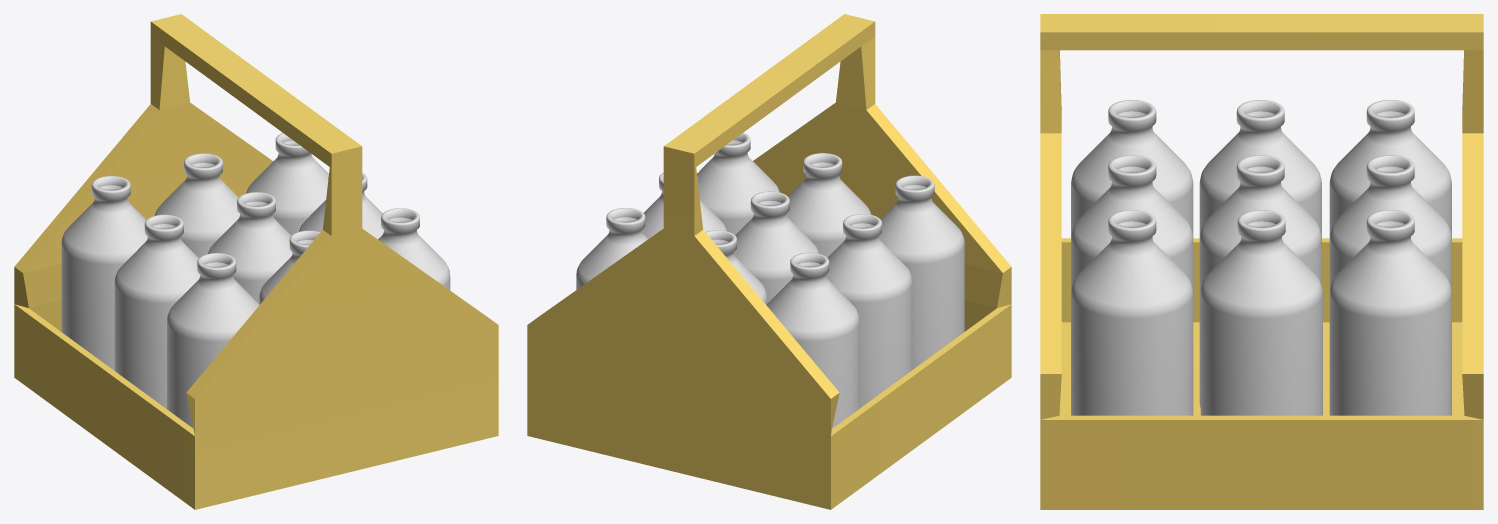
The model's file is MilkBottleSet.fbx.
3 renders of one model, left to right at view 1: azimuth 30°, elevation 25°; view 2: azimuth 150°, elevation 25°; view 3: azimuth 270°, elevation 25°, orthographic. The views are drawn at different scales.
Parts seen in each view (by area): view 1: Stand, Glass.003, Glass.004, Glass.005, Glass.008, Glass.007, Glass.001, Glass.006, Glass.002, Glass.009; view 2: Stand, Glass.004, Glass.005, Glass.003, Glass.008, Glass.009, Glass.006, Glass.001, Glass.002, Glass.007; view 3: Stand, Glass.001, Glass.006, Glass.002, Glass.008, Glass.004, Glass.005, Glass.003, Glass.009, Glass.007.
Boxes of the visible parts, left/top/right/bottom form: Stand: left=14, top=14, right=498, bottom=509; Glass.003: left=61, top=176, right=147, bottom=370; Glass.004: left=114, top=214, right=200, bottom=408; Glass.005: left=167, top=253, right=259, bottom=428; Glass.008: left=208, top=192, right=292, bottom=303; Glass.007: left=154, top=153, right=239, bottom=257; Glass.001: left=246, top=133, right=328, bottom=235; Glass.006: left=378, top=208, right=450, bottom=290; Glass.002: left=299, top=172, right=383, bottom=239; Glass.009: left=259, top=230, right=320, bottom=304; Stand: left=527, top=14, right=1011, bottom=509; Glass.004: left=826, top=214, right=912, bottom=408; Glass.005: left=879, top=175, right=964, bottom=369; Glass.003: left=766, top=252, right=859, bottom=428; Glass.008: left=734, top=191, right=818, bottom=303; Glass.009: left=787, top=153, right=871, bottom=257; Glass.006: left=697, top=132, right=779, bottom=234; Glass.001: left=576, top=208, right=648, bottom=289; Glass.002: left=642, top=172, right=726, bottom=238; Glass.007: left=705, top=230, right=767, bottom=304; Stand: left=1040, top=14, right=1483, bottom=509; Glass.001: left=1329, top=210, right=1451, bottom=415; Glass.006: left=1071, top=210, right=1193, bottom=415; Glass.002: left=1200, top=210, right=1322, bottom=415; Glass.008: left=1199, top=155, right=1321, bottom=407; Glass.004: left=1199, top=100, right=1321, bottom=236; Glass.005: left=1071, top=100, right=1193, bottom=236; Glass.003: left=1329, top=100, right=1451, bottom=237; Glass.009: left=1071, top=155, right=1193, bottom=291; Glass.007: left=1329, top=155, right=1451, bottom=291.
Bounding box in the file's own units: 0.4016 × 0.4082 × 0.4141.
Materials: 3 (1 with a texture image).
